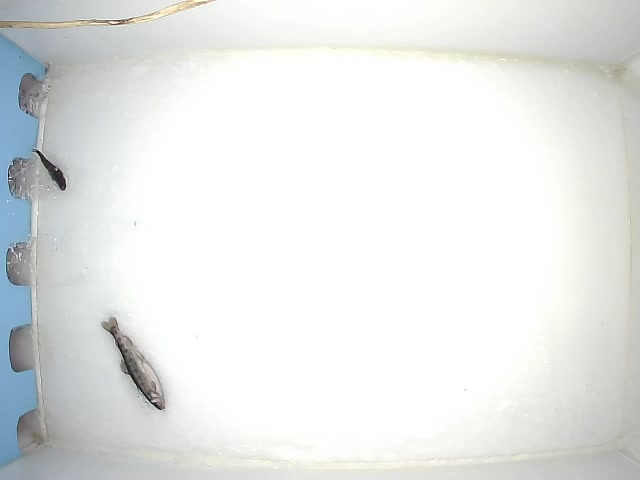fish: (99, 314, 167, 412)
